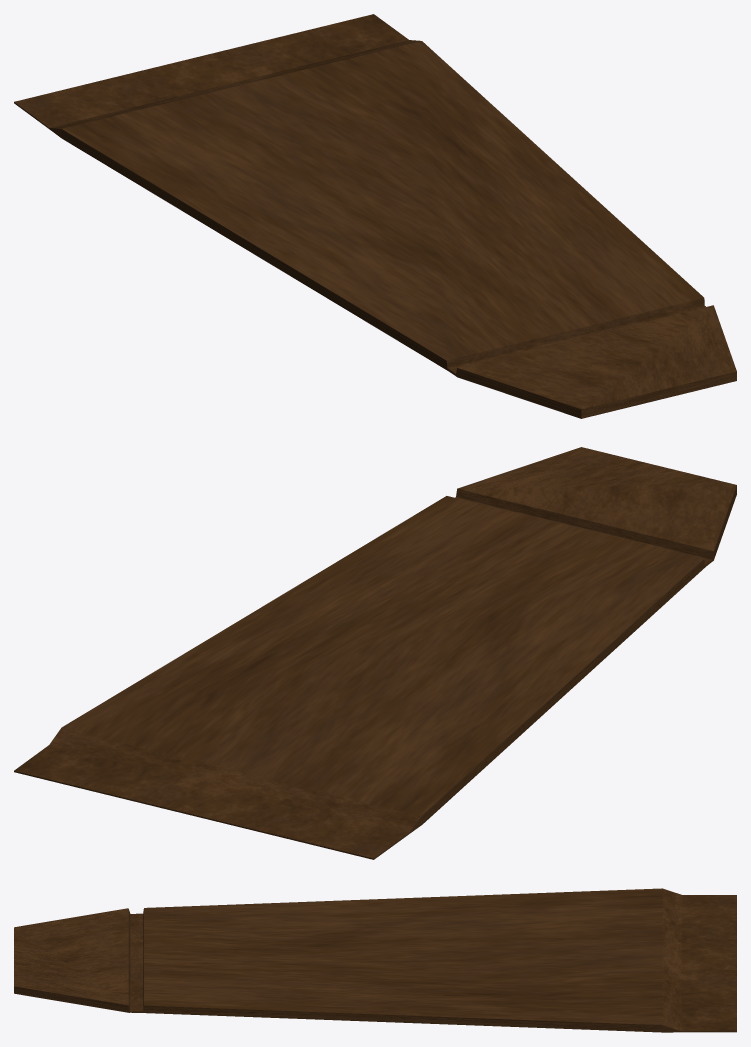
File: trench_1.glb
The picture shows the model from 3 angles, top to bottom: view 1: azimuth 30°, elevation 25°; view 2: azimuth 150°, elevation 25°; view 3: azimuth 270°, elevation 25°; orthographic projection. The views are drawn at different scales.
Parts seen in each view (by area): view 1: Trench; view 2: Trench; view 3: Trench.
Boxes of the visible parts, x1=… form: Trench: x1=14, y1=14, x2=736, y2=418; Trench: x1=14, y1=447, x2=736, y2=859; Trench: x1=14, y1=888, x2=736, y2=1032.
Size of what is drawn, in the model's own units: 100 by 2.53 by 224.
1 material, 1 textured.
